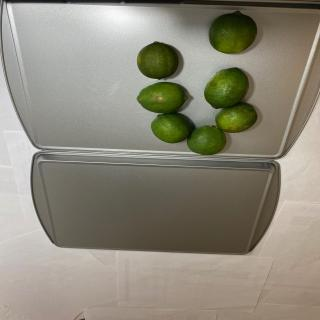Lemon: (208, 10, 258, 54), (204, 67, 249, 109), (136, 82, 188, 114), (137, 41, 179, 80), (215, 102, 258, 133), (151, 112, 191, 144), (186, 125, 227, 155)
